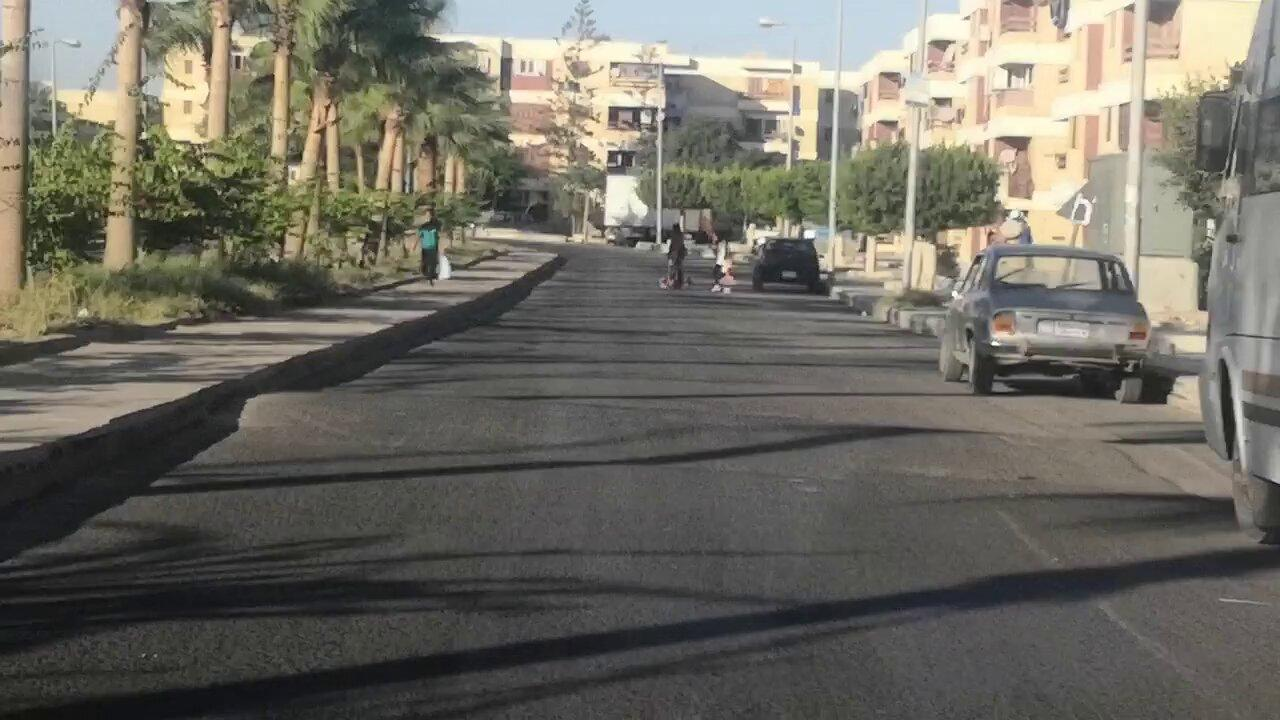Bump: (285, 383, 1163, 503)
